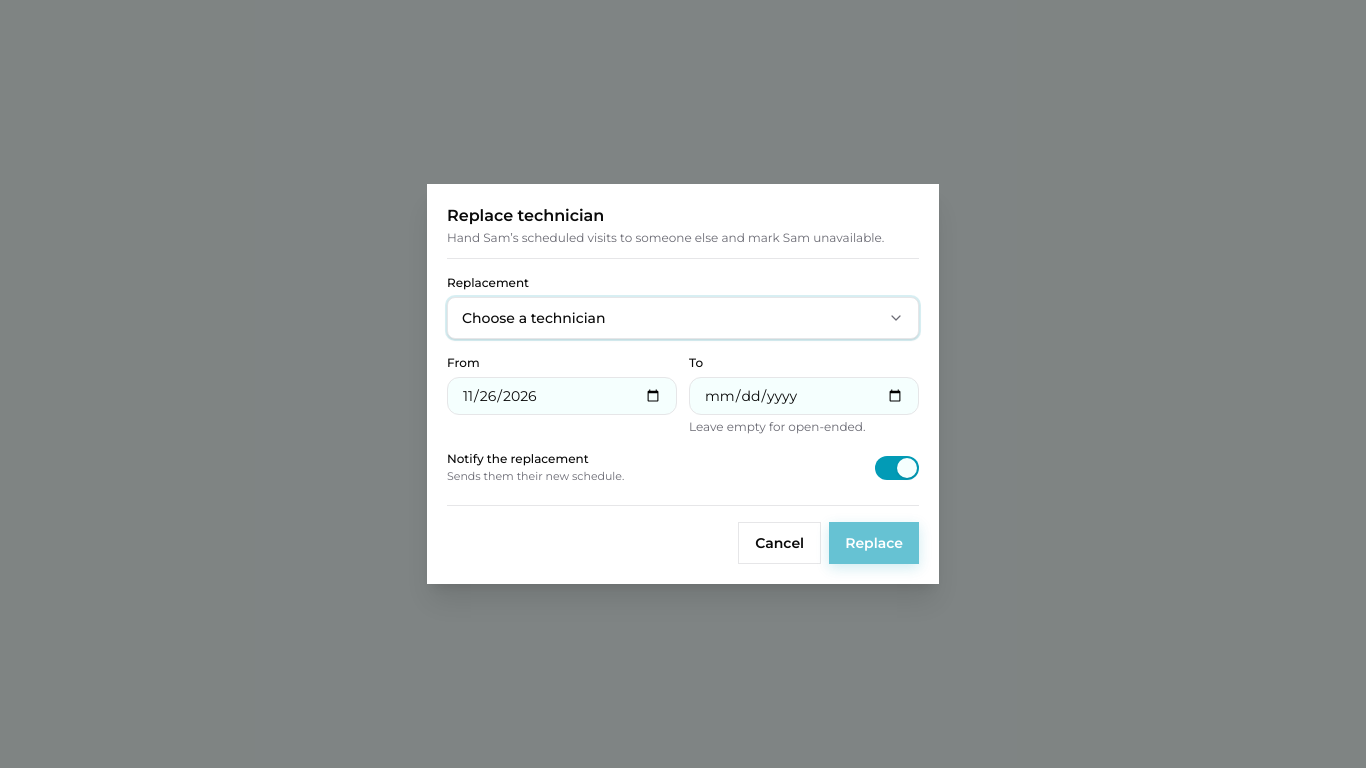
Test: ReplaceTechnicianModal (GAP-030) › sends an open-ended replacement and shows the server error
Click the button with aria-label "Replacement": (534, 318) 447,297 -> 919,339
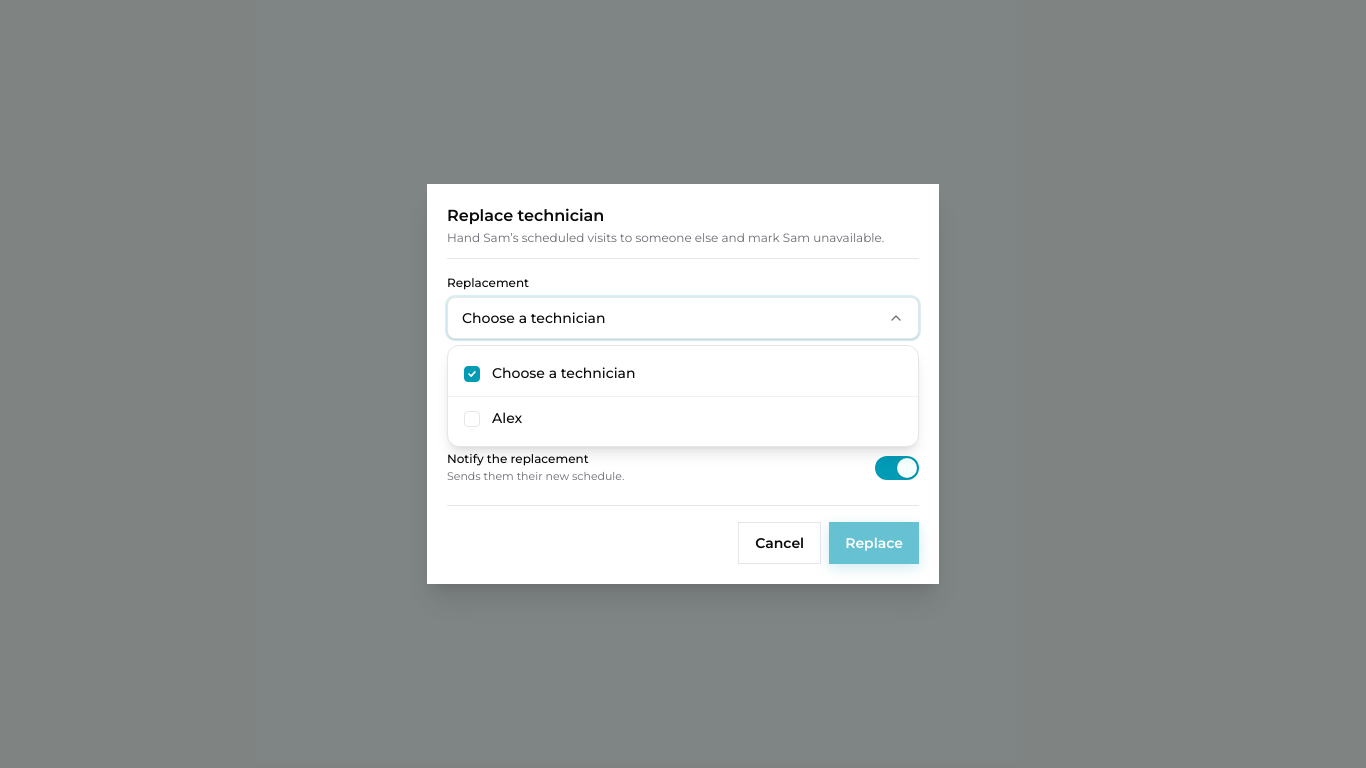
Click the option "Alex": (507, 418) 448,397 -> 918,440
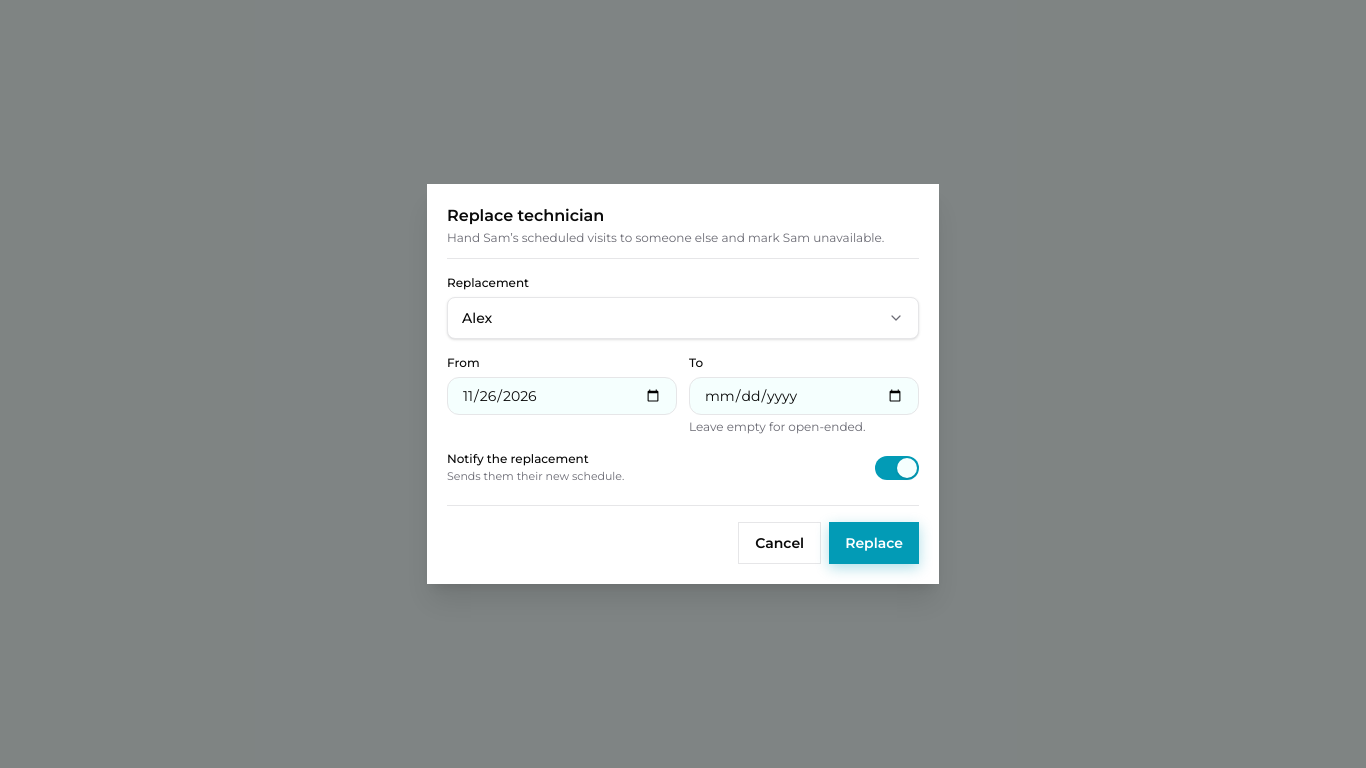
Click the button "Replace": (874, 543) 829,522 -> 919,564
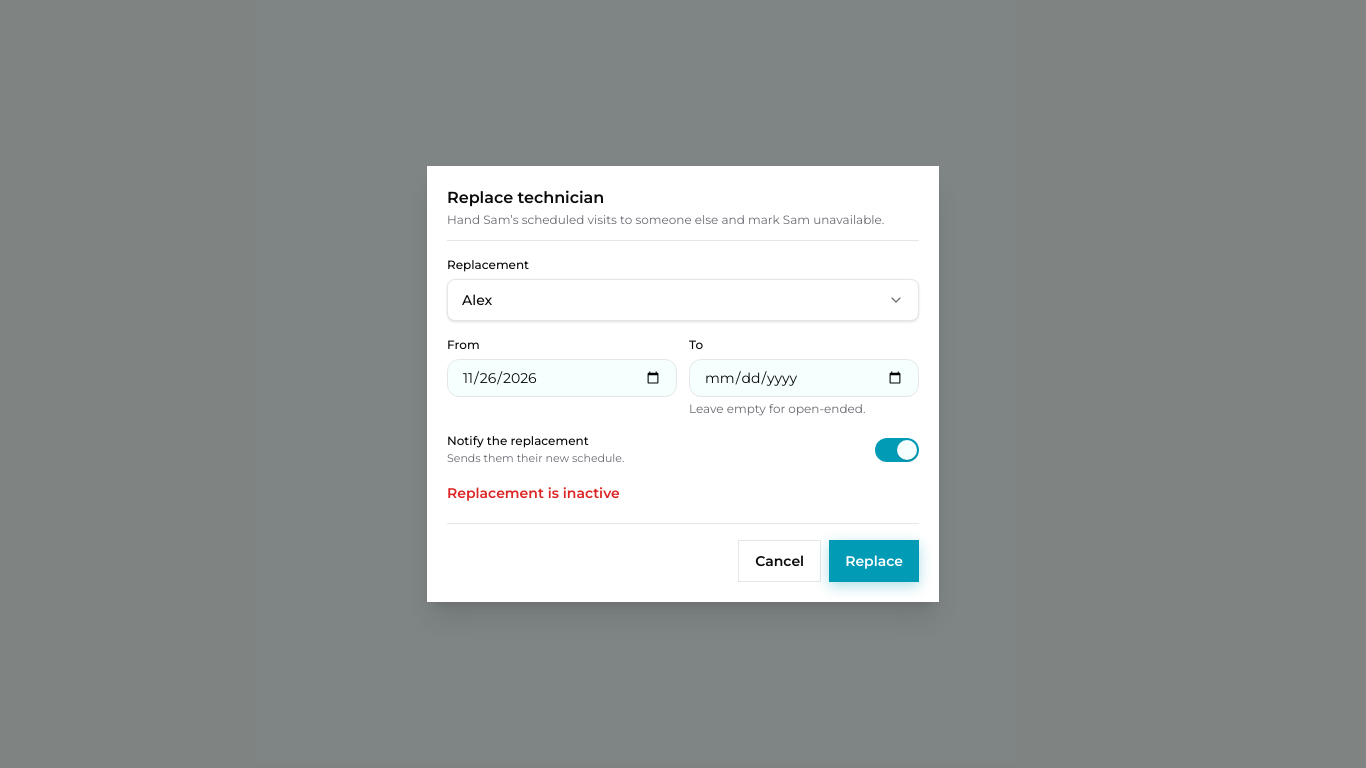
Expected: the text "Replacement is inactive" is shown, 447,484 -> 620,502
